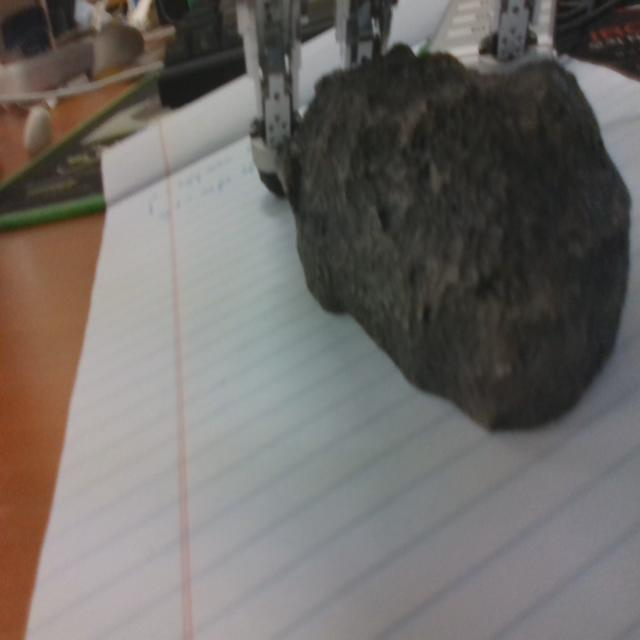stone: (271, 41, 634, 432)
